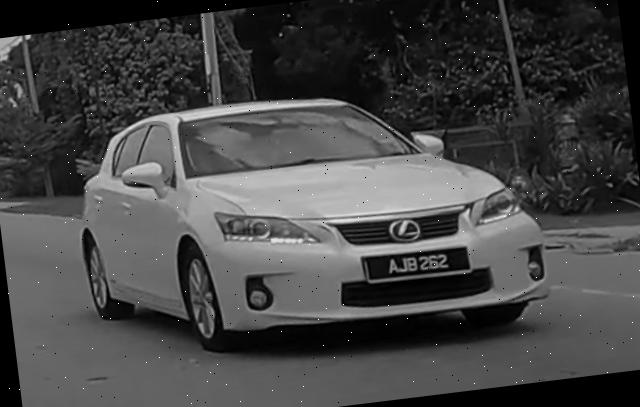License_Plate: (360, 242, 472, 287)
car: (65, 67, 556, 376)
